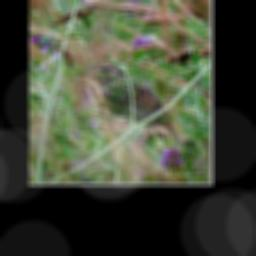Sparrow: (85, 62, 186, 153)
